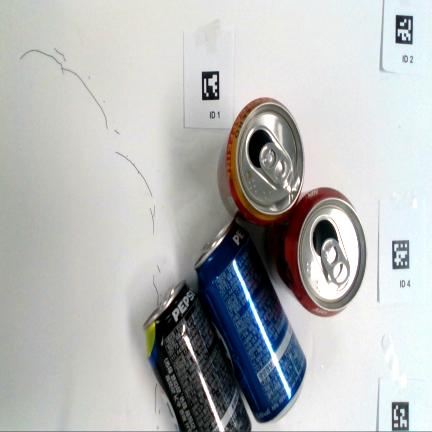can_coke_decaf: (218, 98, 304, 226)
can_coke_zero: (265, 188, 367, 317)
can_pepsi: (194, 219, 306, 422)
can_pepsi_zero: (144, 280, 251, 432)
